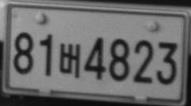1: (37, 33, 58, 76)
2: (133, 39, 153, 83)
3: (156, 40, 177, 85)
4: (83, 37, 106, 79)
8: (12, 31, 34, 75), (109, 38, 131, 81)
버: (58, 42, 81, 78)
